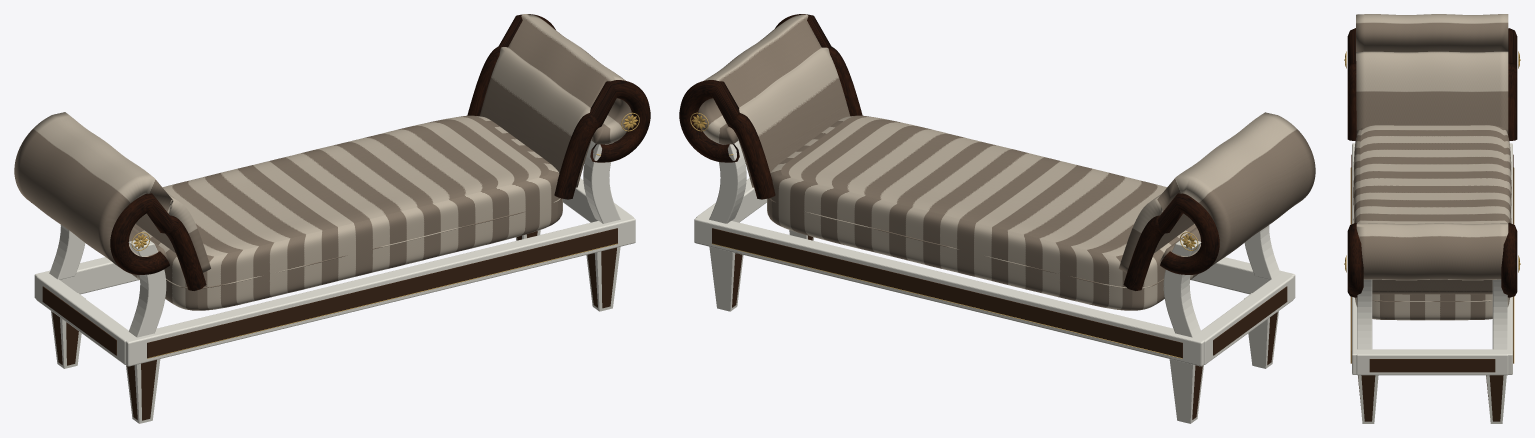
3 views of the same model, side by side, from view 1: azimuth 30°, elevation 25°; view 2: azimuth 150°, elevation 25°; view 3: azimuth 270°, elevation 25° (orthographic). The views are drawn at different scales.
Parts seen in each view (by area): view 1: Belgravia rolled-end bench | 50048.0 | bedroom-29 web batch; view 2: Belgravia rolled-end bench | 50048.0 | bedroom-29 web batch; view 3: Belgravia rolled-end bench | 50048.0 | bedroom-29 web batch.
Part boxes in pixels (x1=…): Belgravia rolled-end bench | 50048.0 | bedroom-29 web batch: x1=14, y1=14, x2=650, y2=423; Belgravia rolled-end bench | 50048.0 | bedroom-29 web batch: x1=679, y1=14, x2=1315, y2=423; Belgravia rolled-end bench | 50048.0 | bedroom-29 web batch: x1=1344, y1=14, x2=1520, y2=423.
Size of the model in its own units: 1.62 by 0.7 by 0.53.
6 materials, 2 textured.
